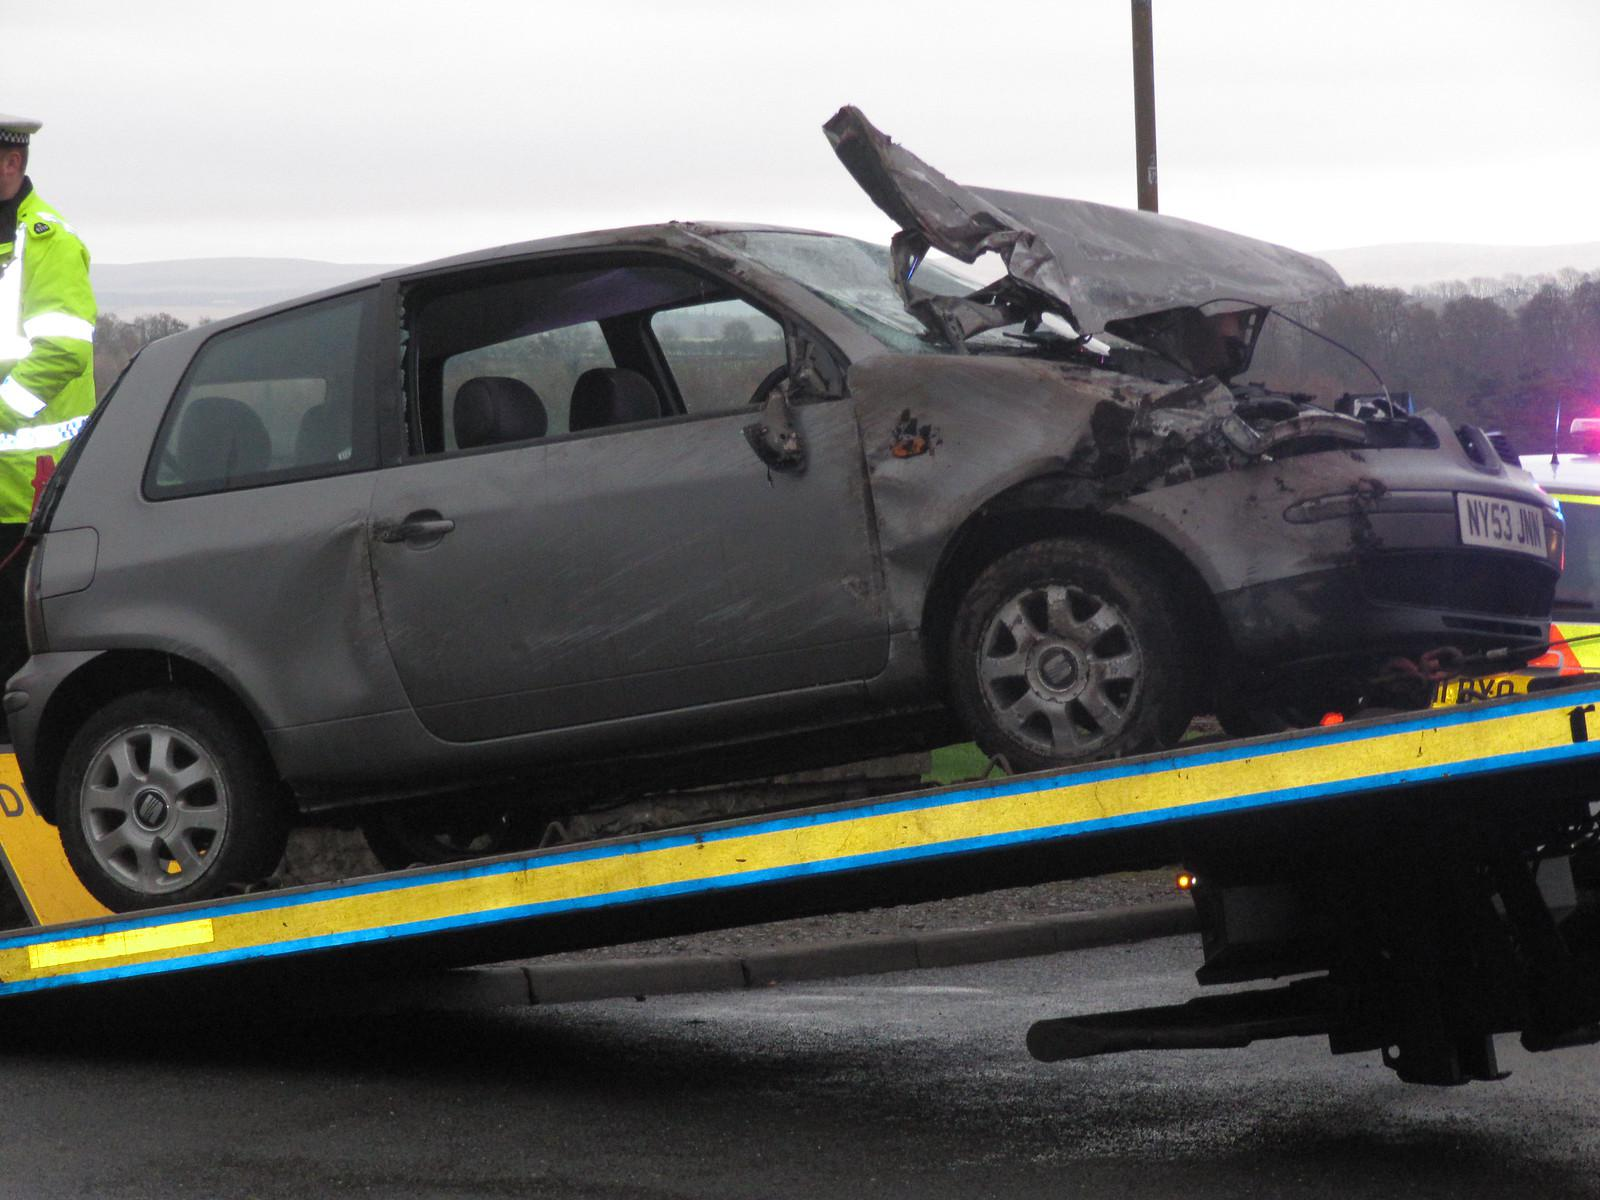bonnet-dent: (850, 193, 1356, 379)
doorouter-dent: (401, 393, 879, 790)
fender-dent: (918, 387, 1320, 610)
pillar-dent: (619, 223, 894, 372)
quaterpanel-dent: (31, 476, 407, 740)
